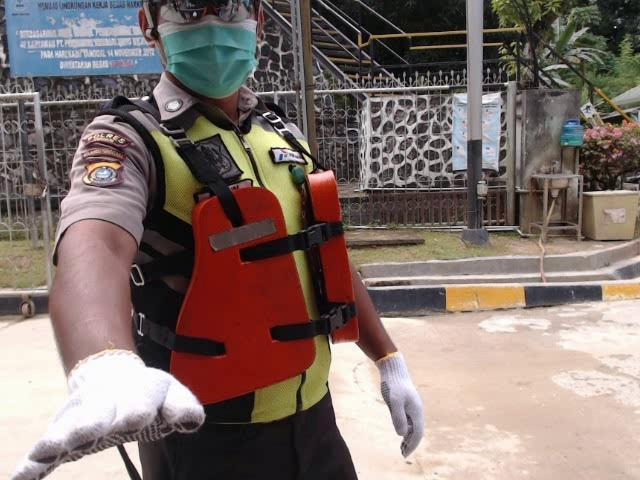vest: (150, 167, 366, 407)
